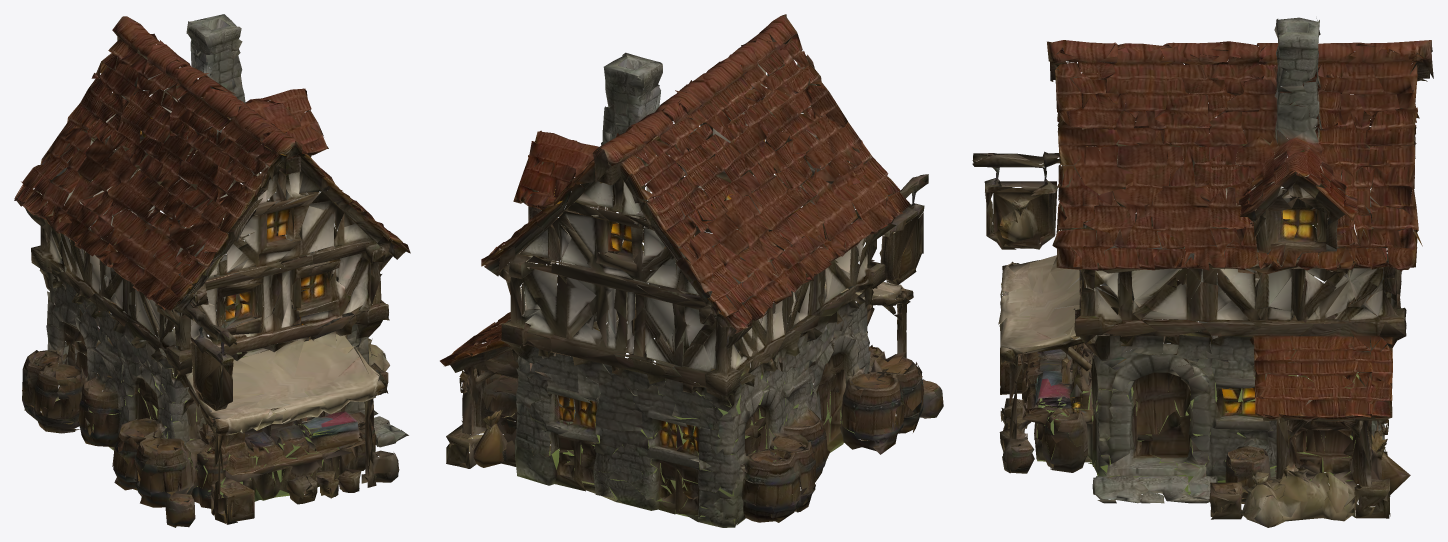
Rendered from Timbered_Market_House_town.glb.
The picture shows the model from 3 angles, left to right: view 1: azimuth 30°, elevation 25°; view 2: azimuth 150°, elevation 25°; view 3: azimuth 270°, elevation 25°; orthographic projection. The views are drawn at different scales.
Visible parts, largest first — view 1: Timbered_Market_House; view 2: Timbered_Market_House; view 3: Timbered_Market_House.
Boxes of the visible parts, x1,y1,x2,y2 form: Timbered_Market_House: (14,14,410,527); Timbered_Market_House: (440,14,943,527); Timbered_Market_House: (972,17,1433,527).
Size of the model in its own units: 1.77 by 1.92 by 1.9.
Materials: 1 (1 with a texture image).
